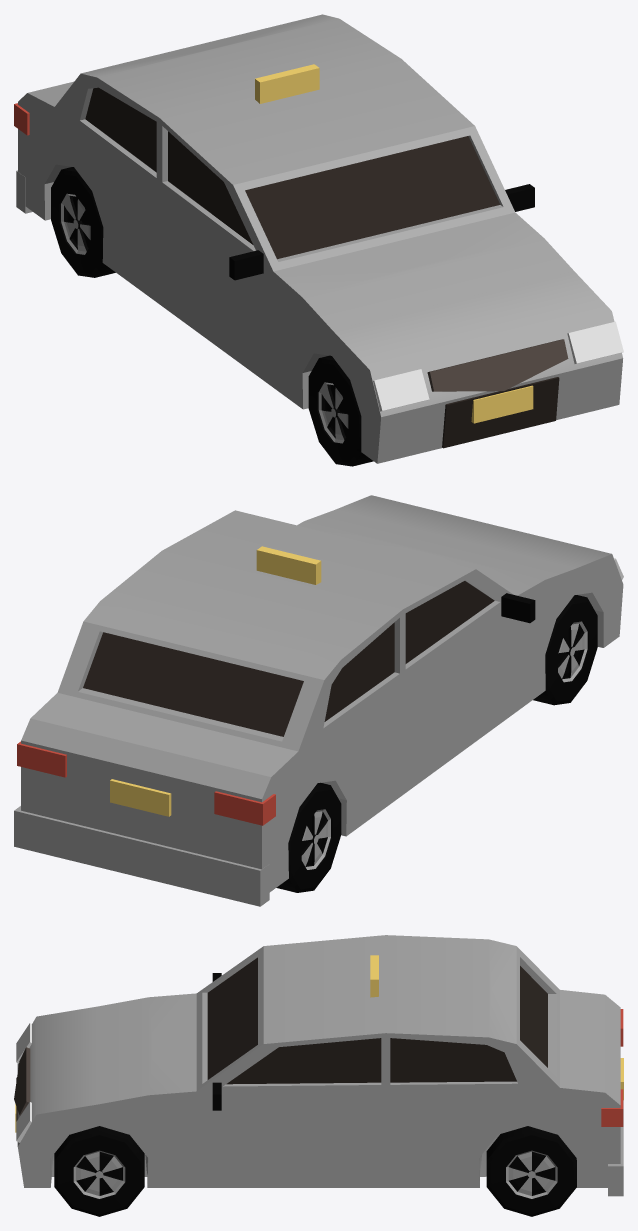
File: car_1.fbx
3 views of the same model, one above another, from view 1: azimuth 30°, elevation 25°; view 2: azimuth 150°, elevation 25°; view 3: azimuth 270°, elevation 25° (orthographic). The views are drawn at different scales.
Parts seen in each view (by area): view 1: car_body, tire_car, tire_car3, taxi_sign; view 2: car_body, tire_car3, tire_car, taxi_sign; view 3: car_body, tire_car1, tire_car2.
Part boxes in pixels (left/top/right/bottom): car_body: left=14, top=14, right=623, bottom=463; tire_car: left=308, top=355, right=373, bottom=466; tire_car3: left=51, top=167, right=115, bottom=277; taxi_sign: left=255, top=64, right=319, bottom=103; car_body: left=14, top=495, right=623, bottom=906; tire_car3: left=276, top=782, right=341, bottom=892; tire_car: left=533, top=595, right=597, bottom=705; taxi_sign: left=256, top=546, right=321, bottom=584; car_body: left=14, top=935, right=623, bottom=1196; tire_car1: left=54, top=1126, right=144, bottom=1216; tire_car2: left=486, top=1126, right=576, bottom=1216.
Size of the model in its own units: 266 by 204 by 564.
Materials: 2 (1 with a texture image).
